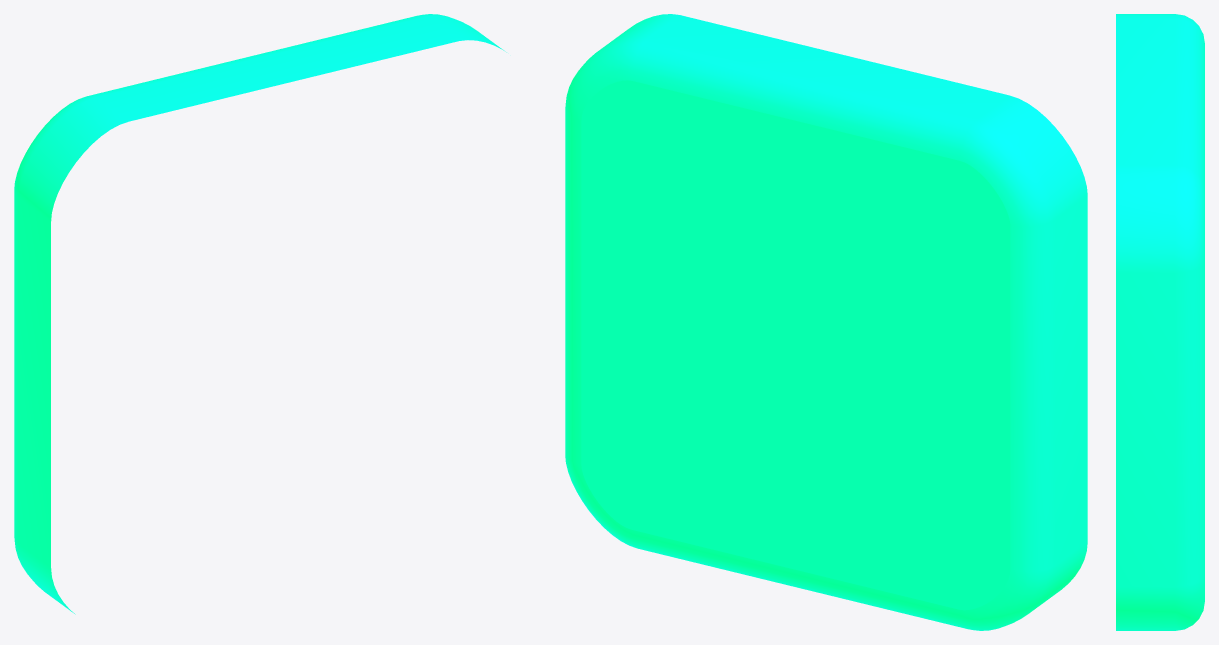
The model's file is button.glb.
The picture shows the model from 3 angles, left to right: view 1: azimuth 30°, elevation 25°; view 2: azimuth 150°, elevation 25°; view 3: azimuth 270°, elevation 25°; orthographic projection. The views are drawn at different scales.
Visible parts, largest first — view 1: Polygon; view 2: Polygon; view 3: Polygon.
Boxes of the visible parts, box(x1,y1,x2,y2) form: Polygon: box(14, 14, 506, 614); Polygon: box(565, 14, 1087, 630); Polygon: box(1116, 14, 1204, 630).
Bounding box in the file's own units: 0.1 × 0.1 × 0.0175.
